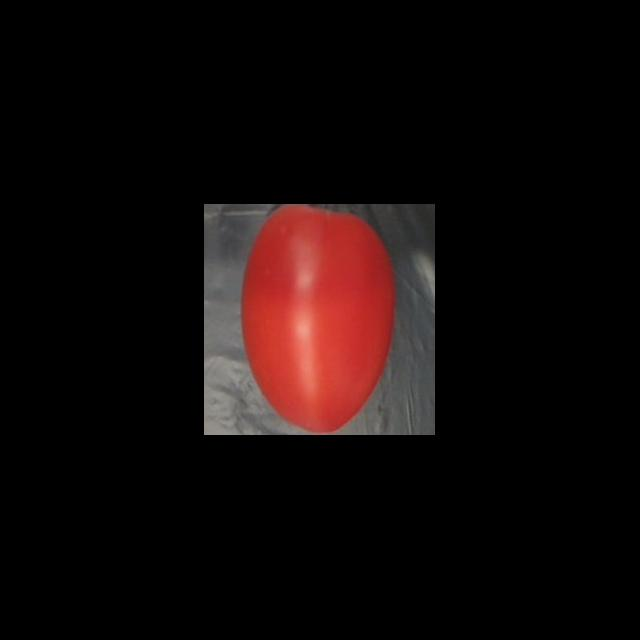tomato: (235, 204, 403, 436)
